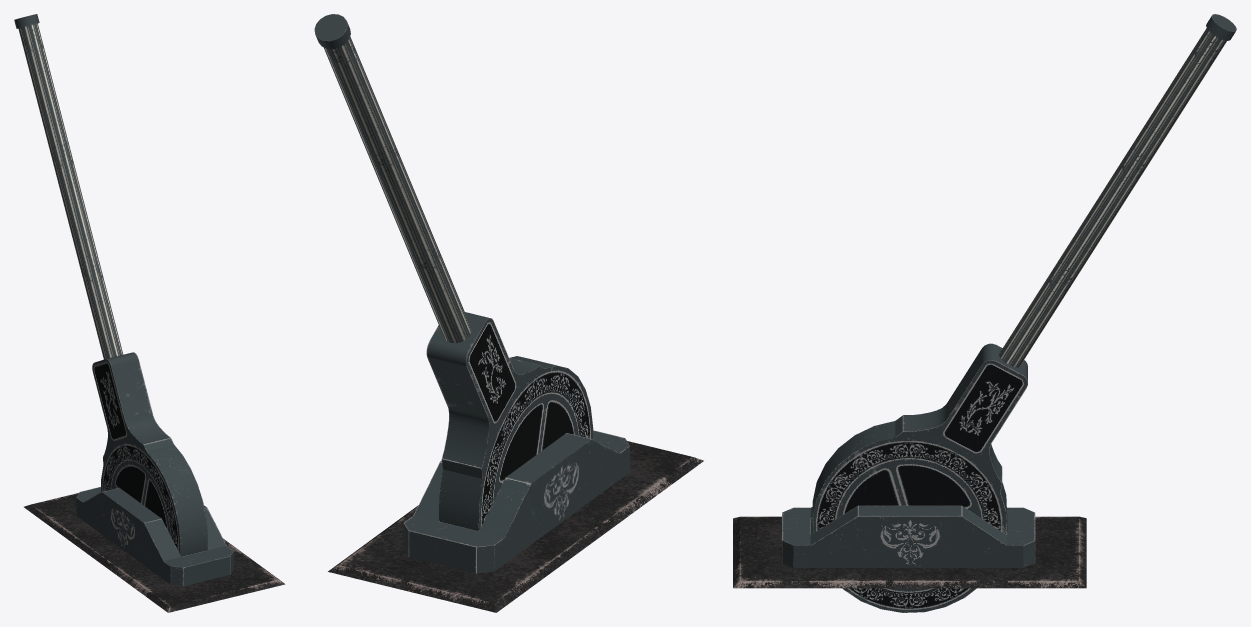
The model's file is lever2.fbx.
3 renders of one model, left to right at view 1: azimuth 30°, elevation 25°; view 2: azimuth 150°, elevation 25°; view 3: azimuth 270°, elevation 25°, orthographic. The views are drawn at different scales.
Visible parts, largest first — view 1: lever, lever2_base; view 2: lever, lever2_base; view 3: lever, lever2_base.
Part boxes in pixels (x1,y1,x2,y2): lever: (14, 14, 208, 556); lever2_base: (24, 487, 285, 612); lever: (314, 14, 593, 531); lever2_base: (328, 430, 703, 612); lever: (812, 14, 1236, 612); lever2_base: (733, 505, 1086, 588).
Bounding box in the file's own units: 43.99 × 172 × 134.
